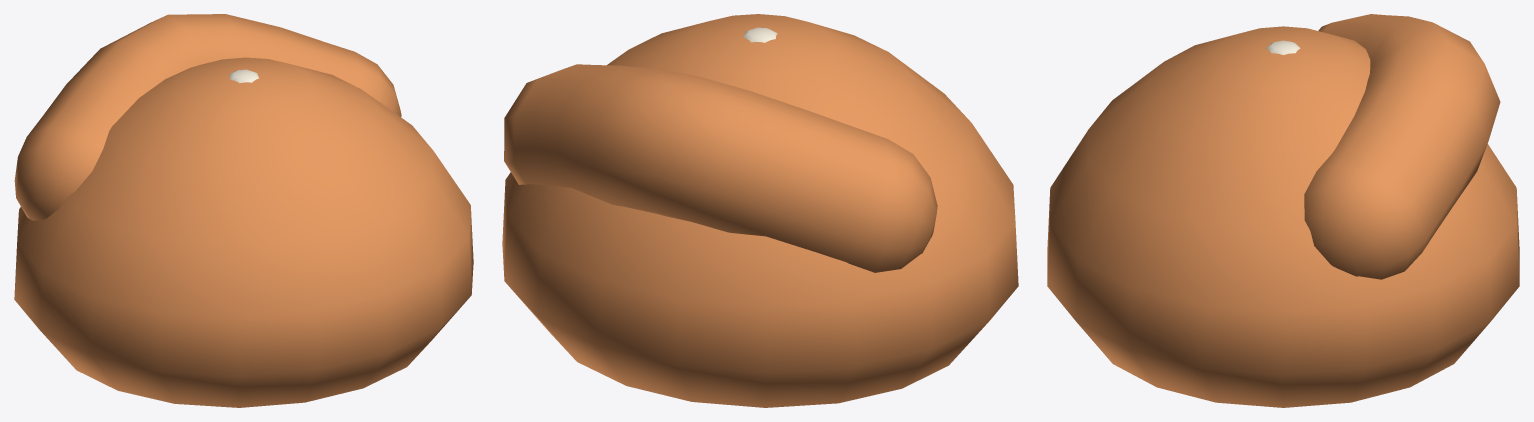
File: game_bean_bag.glb
3 renders of one model, left to right at view 1: azimuth 30°, elevation 25°; view 2: azimuth 150°, elevation 25°; view 3: azimuth 270°, elevation 25°, orthographic. The views are drawn at different scales.
Parts seen in each view (by area): view 1: game_bean_bag_mesh; view 2: game_bean_bag_mesh; view 3: game_bean_bag_mesh.
Boxes of the visible parts, x1,y1,x2,y2 form: game_bean_bag_mesh: (14, 14, 473, 407); game_bean_bag_mesh: (502, 14, 1018, 407); game_bean_bag_mesh: (1047, 14, 1519, 407).
Bounding box in the file's own units: 0.7693 × 0.546 × 0.7178.
